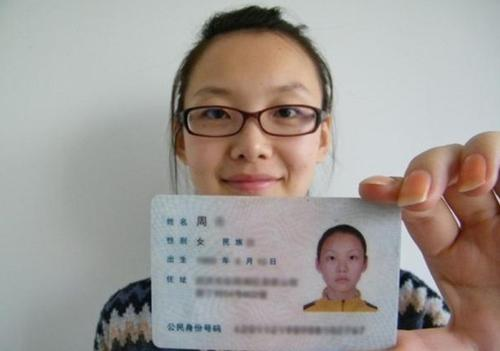no_mask: (171, 4, 337, 249)
